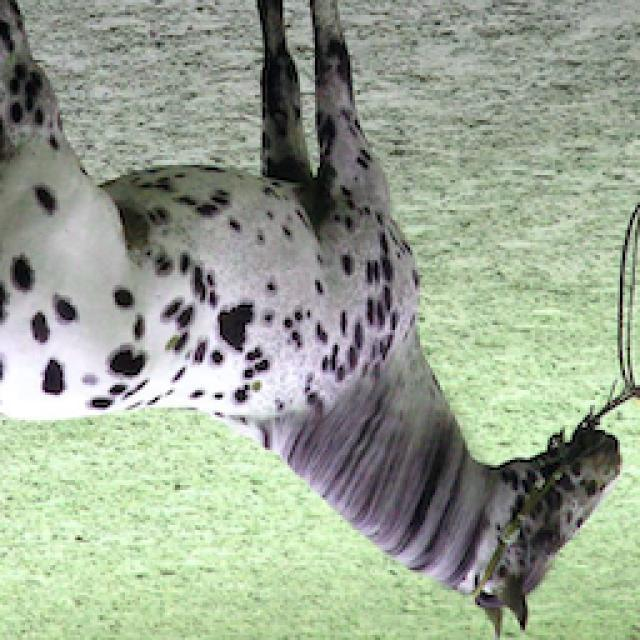Horse: (2, 2, 640, 640)
